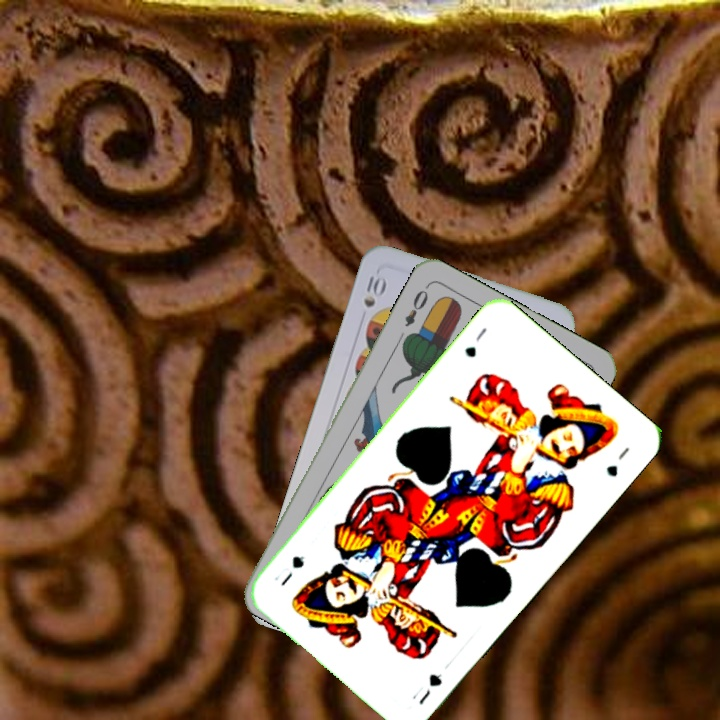EO: (400, 286, 431, 330)
GU: (407, 669, 445, 708), (460, 323, 490, 360)
S10: (359, 271, 389, 310)
